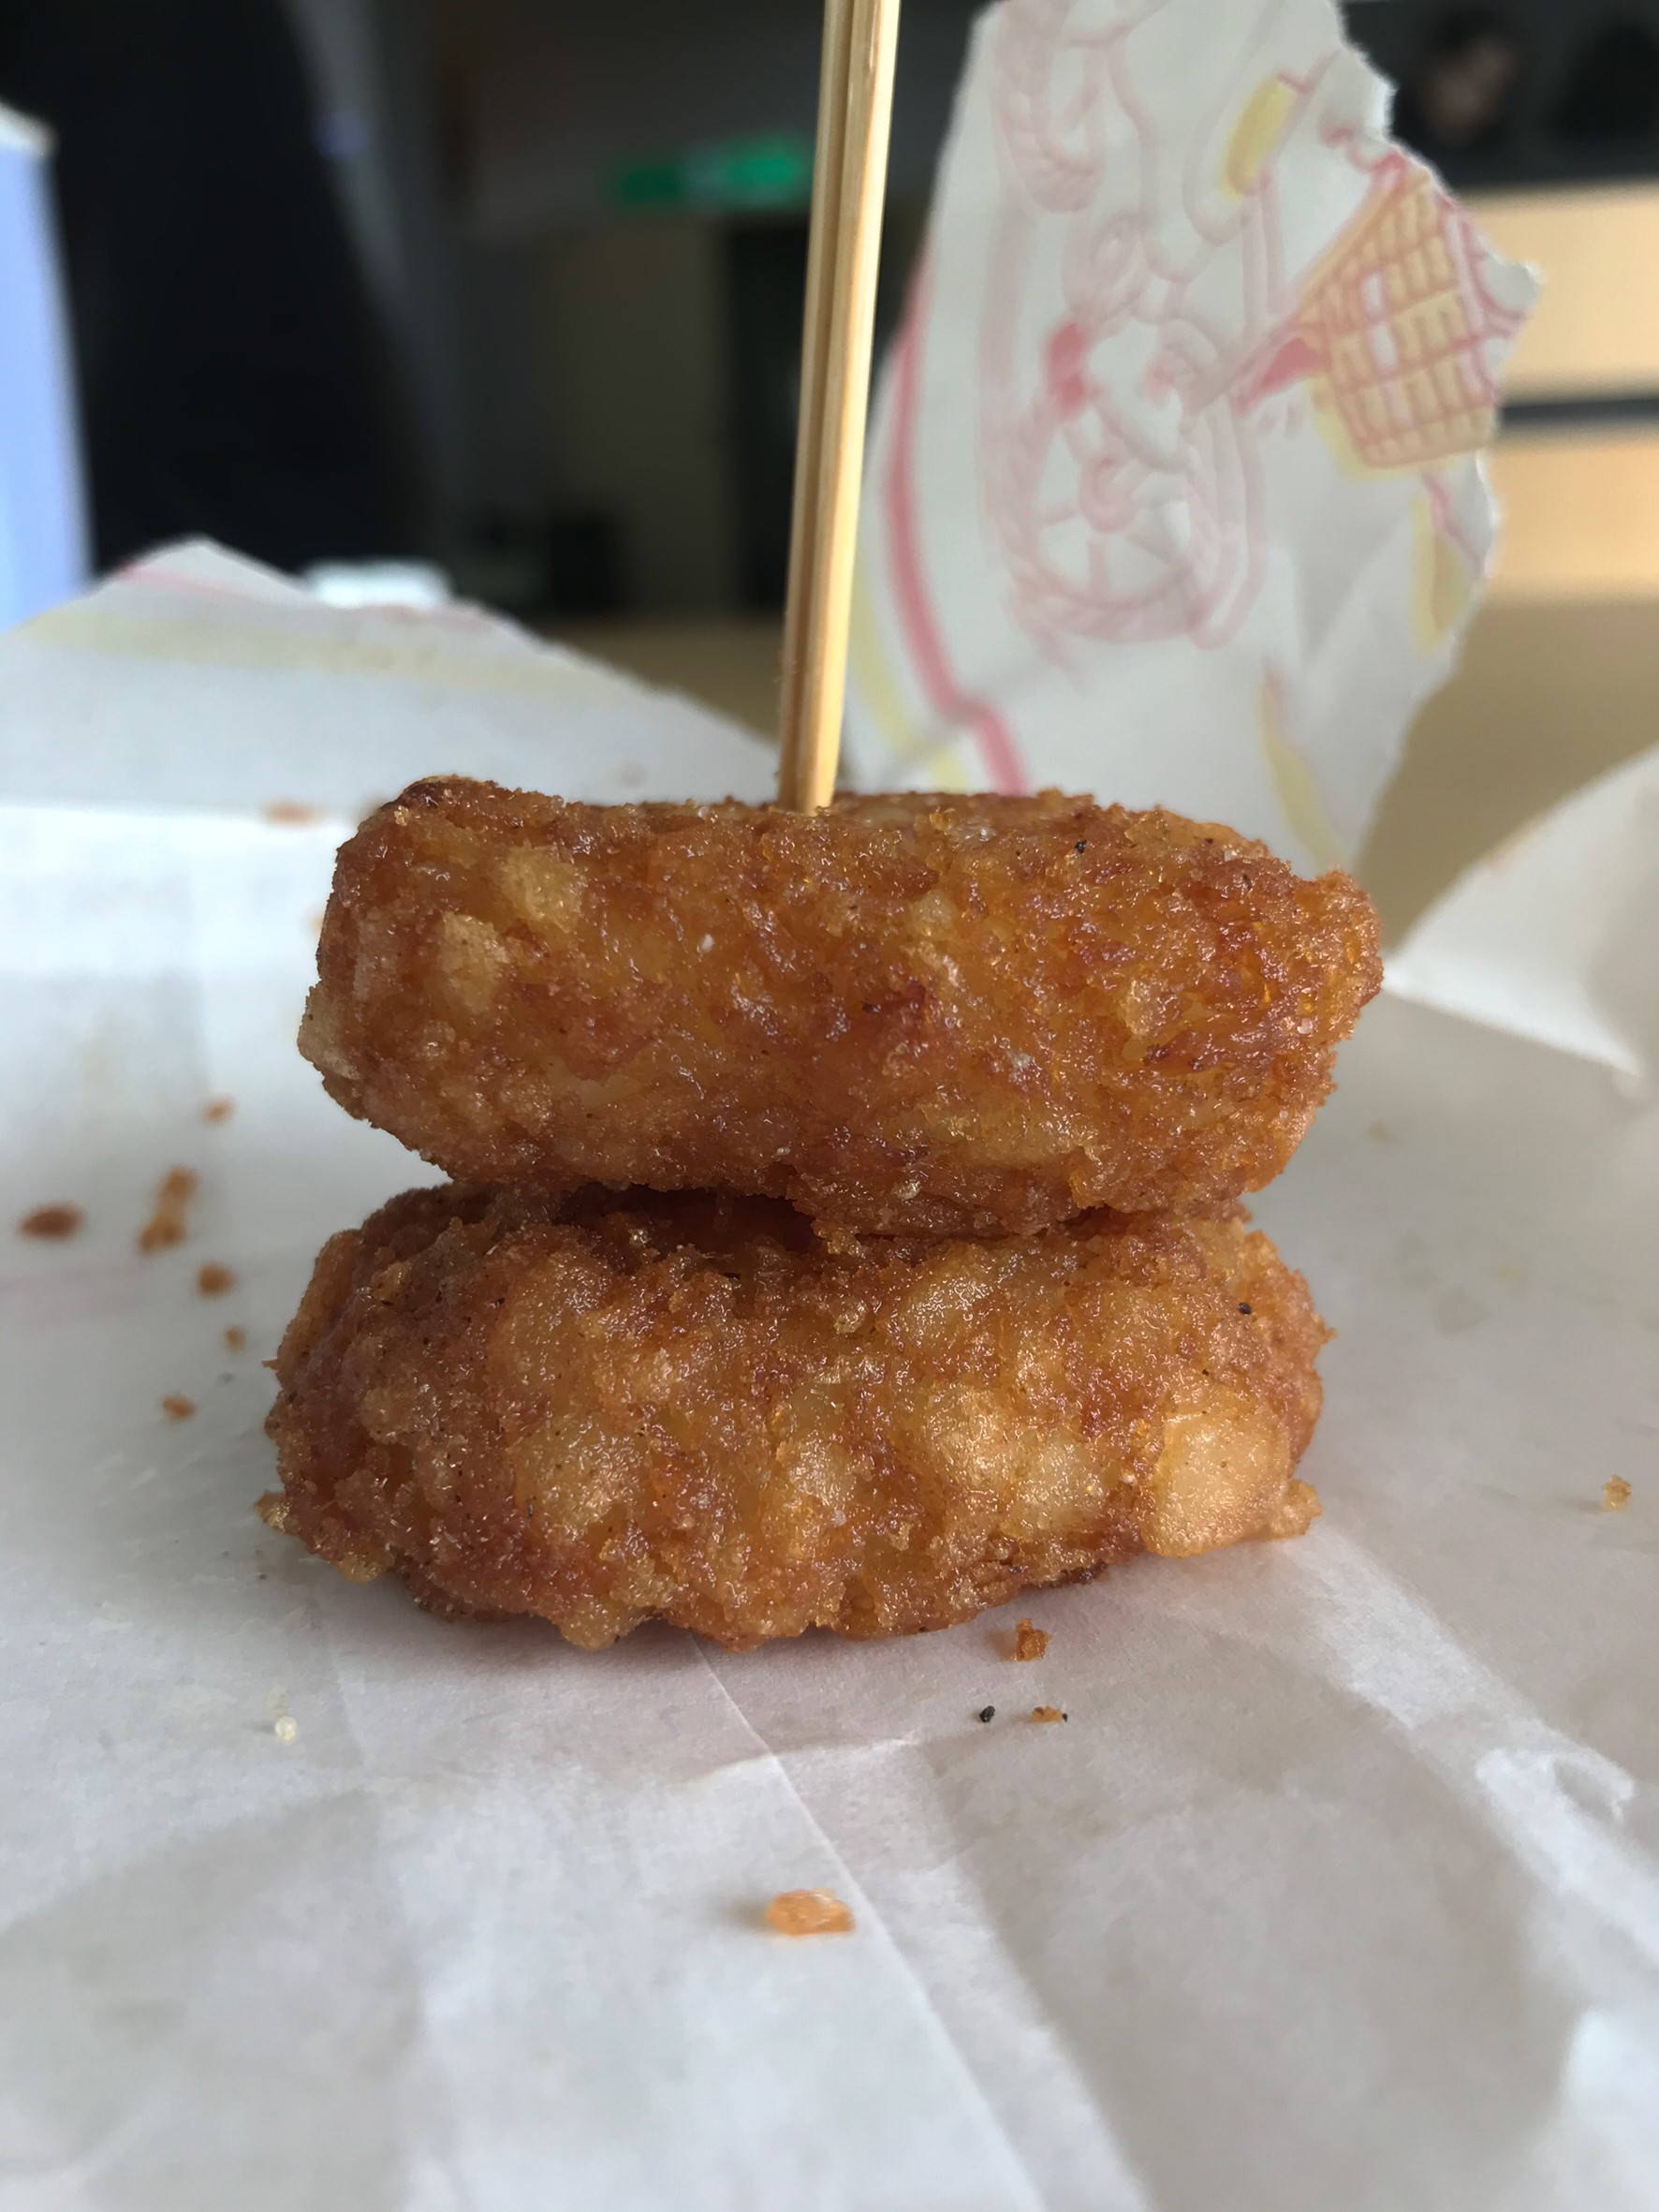triangle_hash_brown: (258, 760, 1363, 1659)
